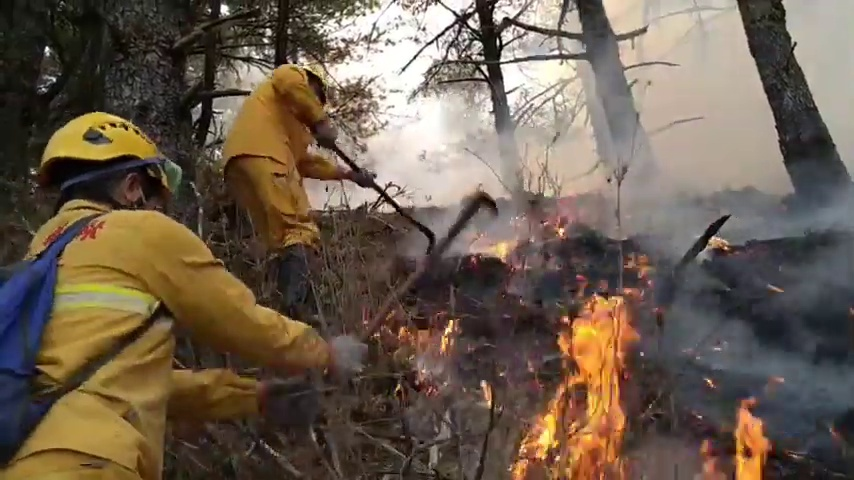fire: (539, 301, 630, 480), (734, 406, 767, 480), (491, 240, 510, 255)
